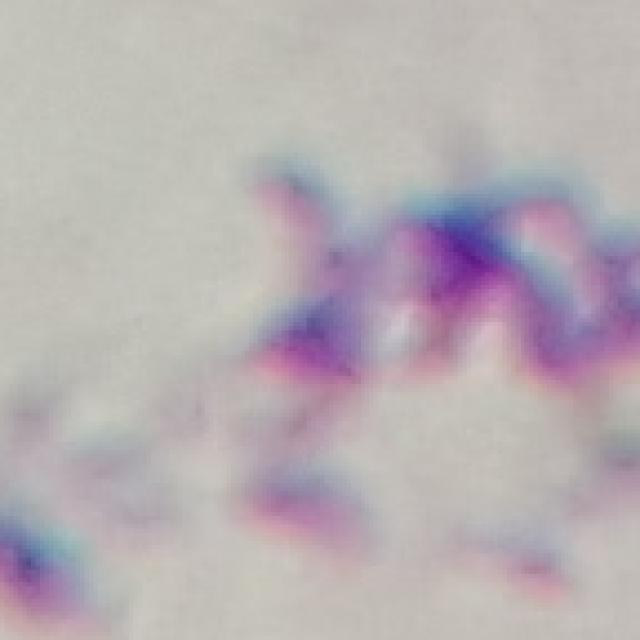non-sperm: (235, 159, 639, 412)
